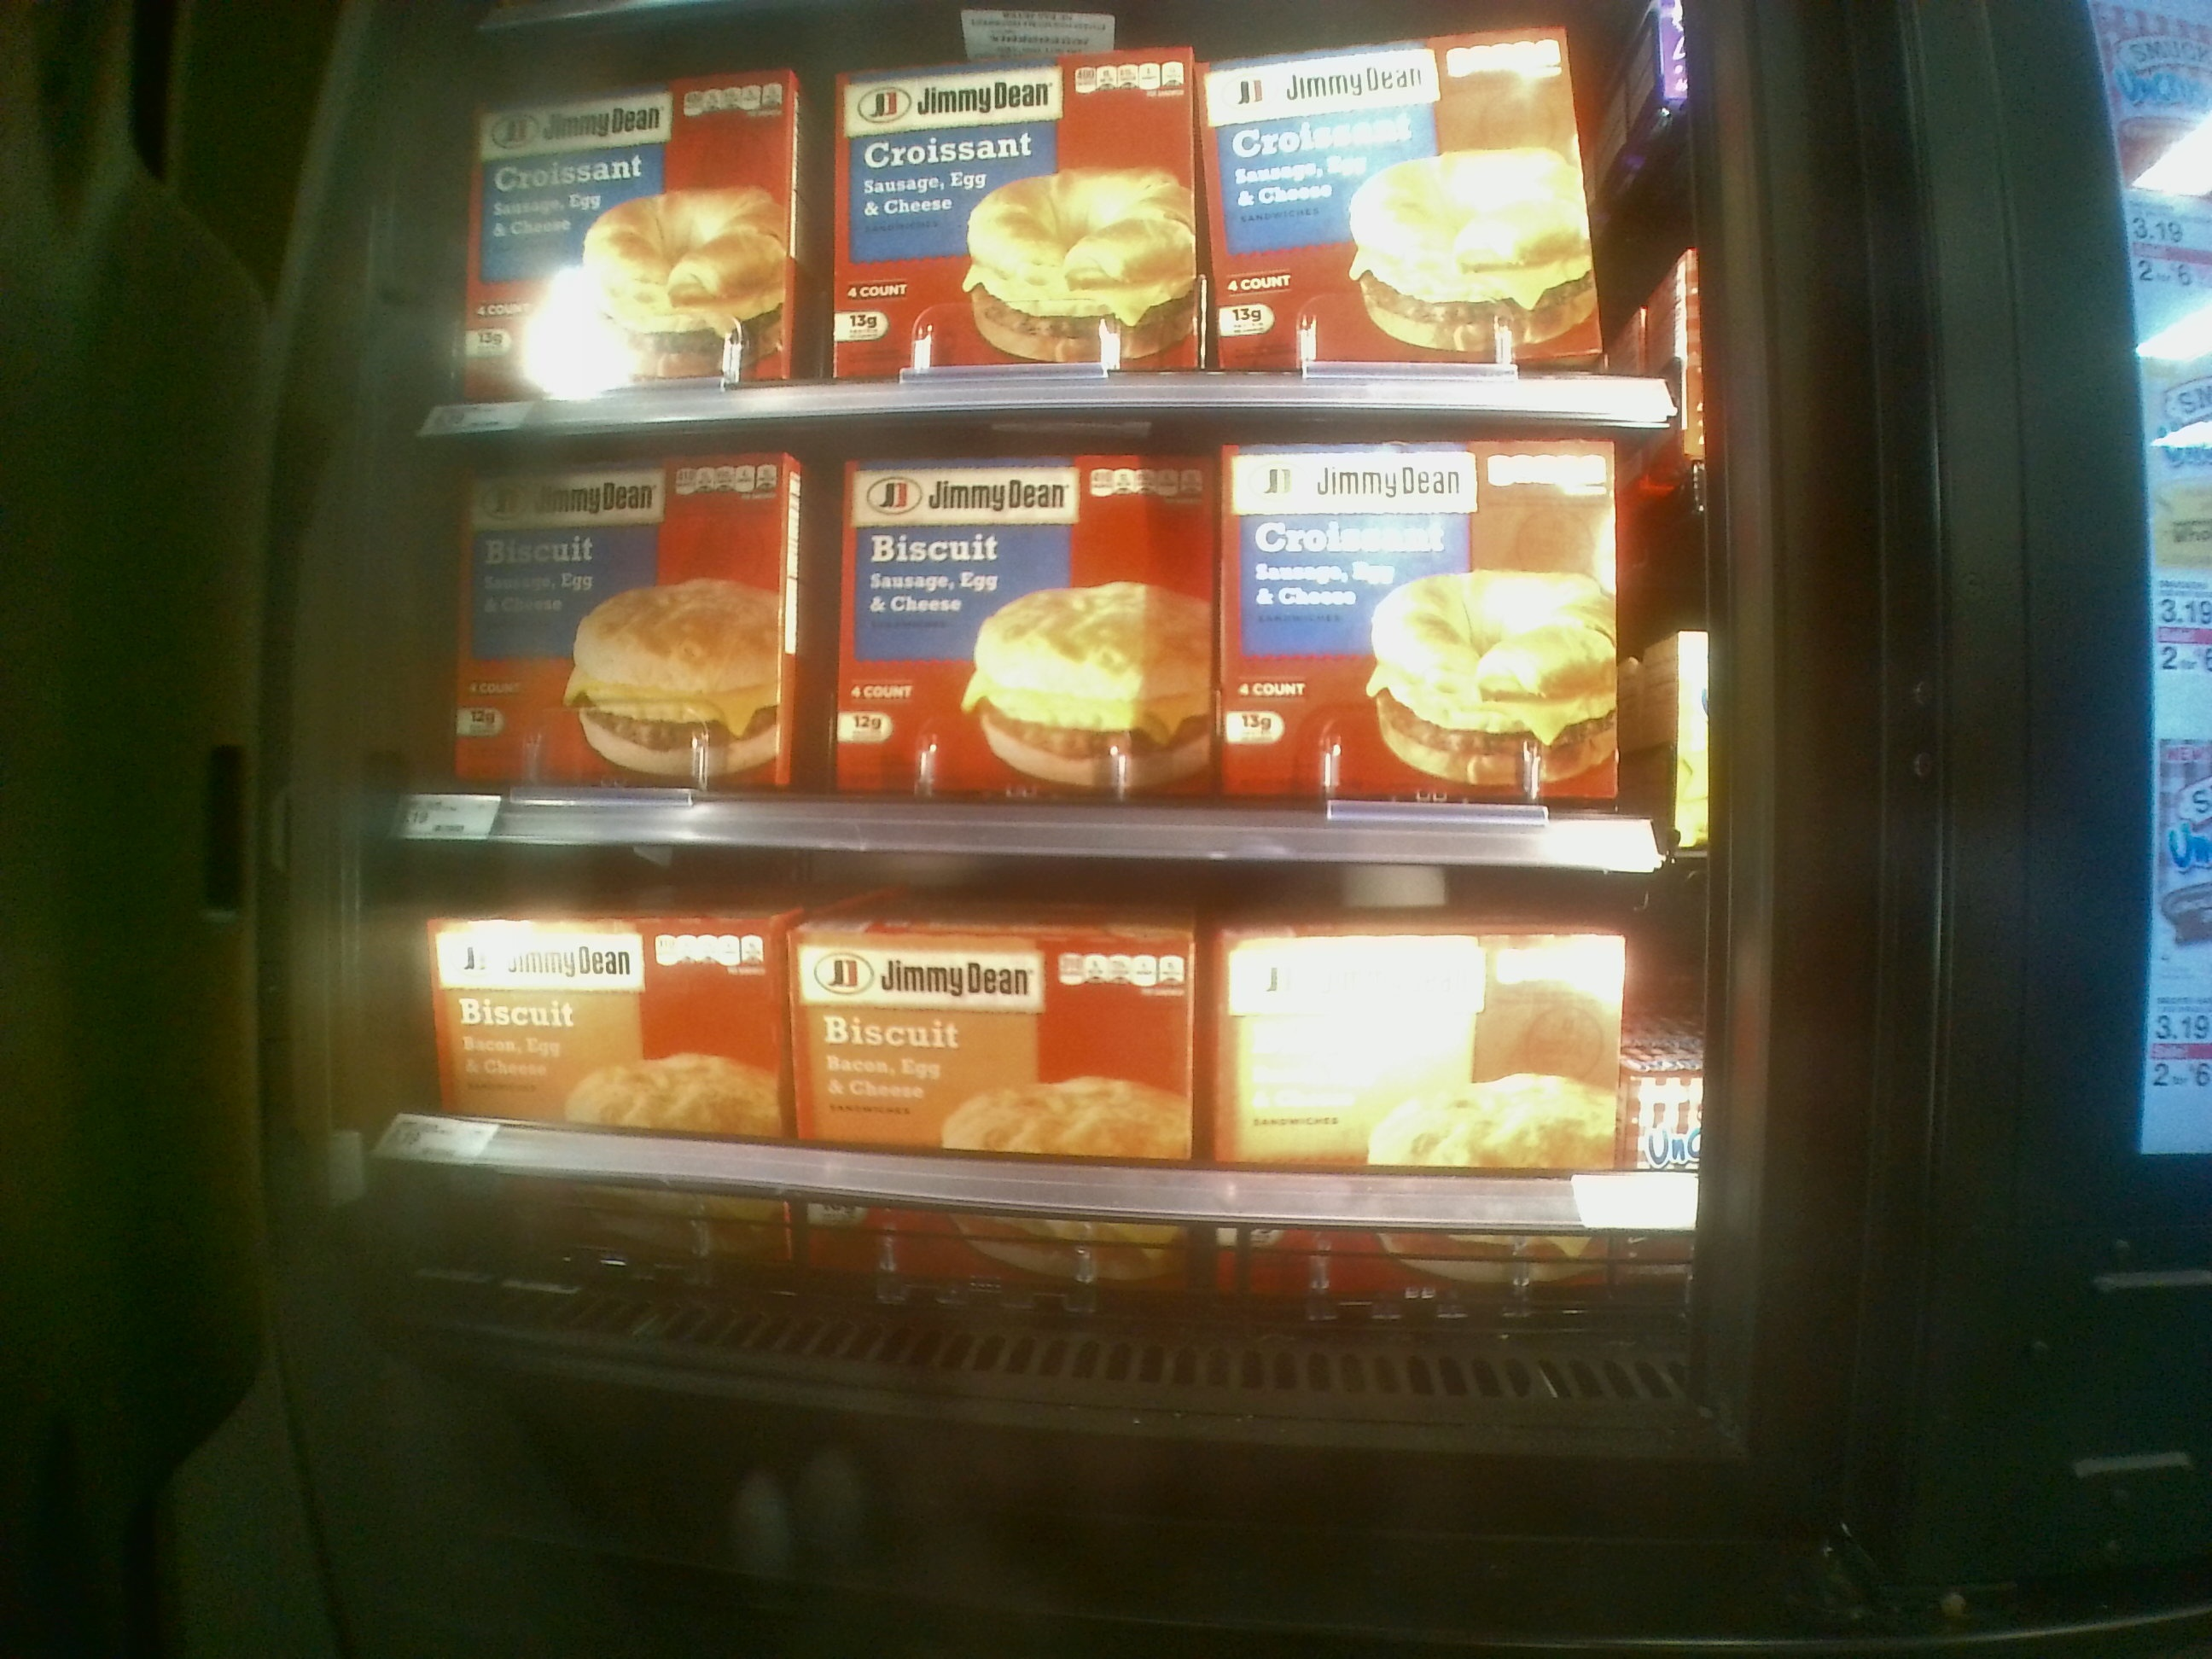shelf: (401, 852, 1730, 1368), (406, 416, 1674, 873)
